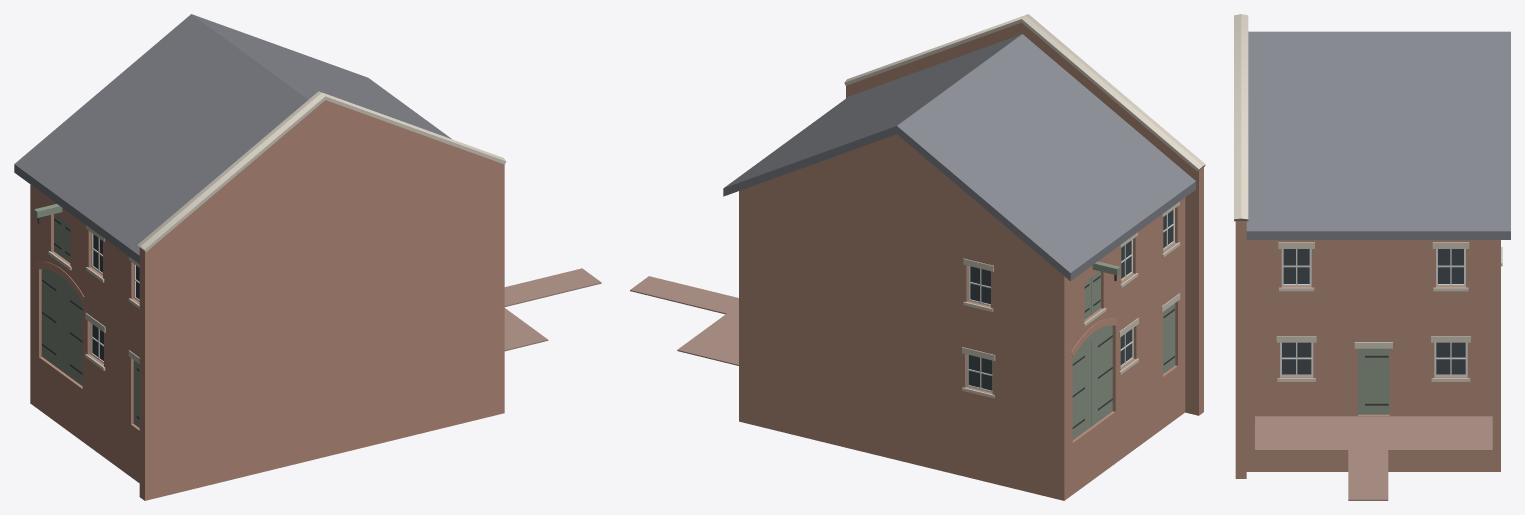
Rendered from house_1626_prairie_coach_house__as_standing_1904.glb.
3 views of the same model, side by side, from view 1: azimuth 30°, elevation 25°; view 2: azimuth 150°, elevation 25°; view 3: azimuth 270°, elevation 25° (orthographic). The views are drawn at different scales.
Parts seen in each view (by area): view 1: house_1626_prairie_coach_house__as_standing_1904; view 2: house_1626_prairie_coach_house__as_standing_1904; view 3: house_1626_prairie_coach_house__as_standing_1904.
Part boxes in pixels (bbox=[...]): house_1626_prairie_coach_house__as_standing_1904: bbox=[14, 14, 601, 500]; house_1626_prairie_coach_house__as_standing_1904: bbox=[630, 14, 1205, 500]; house_1626_prairie_coach_house__as_standing_1904: bbox=[1234, 14, 1510, 500].
Bounding box in the file's own units: 18.7 × 12.4 × 8.32.
